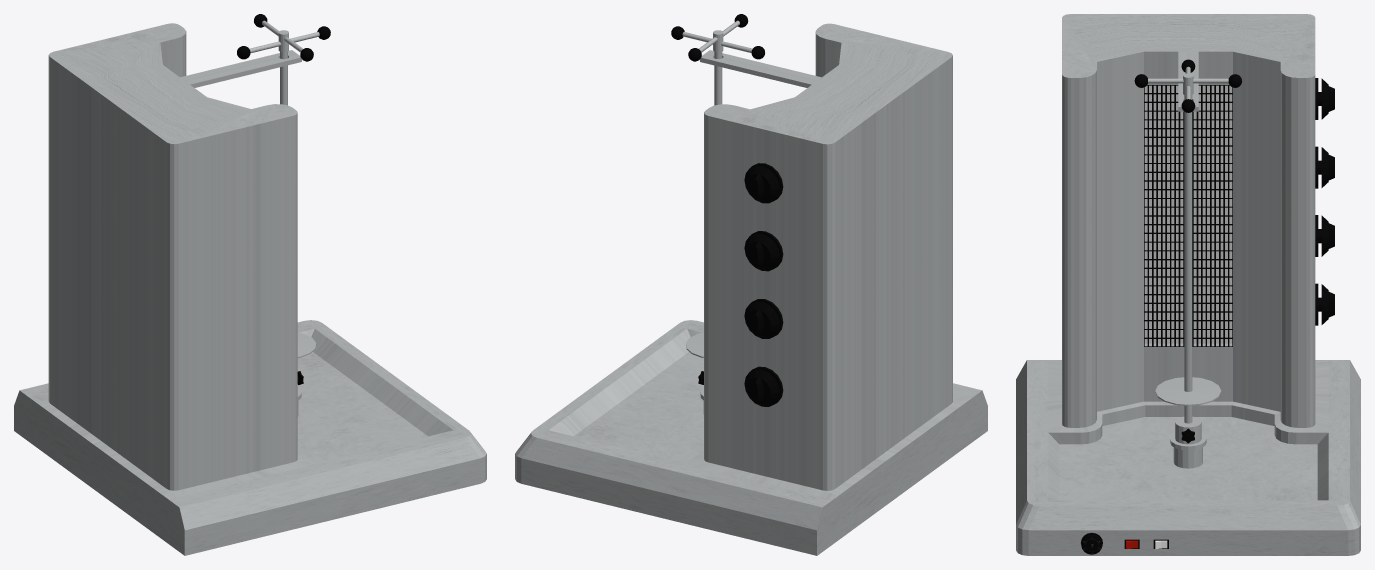
Rendered from donerOcagi.fbx.
3 views of the same model, side by side, from view 1: azimuth 30°, elevation 25°; view 2: azimuth 150°, elevation 25°; view 3: azimuth 270°, elevation 25° (orthographic).
Parts seen in each view (by area): view 1: Cube, Circle.002, Sphere.003; view 2: Cube, Kenardugme, Circle.002, Sphere.003; view 3: Cube, Cube.002, Circle.002, Kenardugme, Sphere.003, Sphere.
Part boxes in pixels (x1,y1,x2,y2): Cube: (14,23,486,555); Circle.002: (278,30,316,416); Sphere.003: (237,14,330,61); Cube: (515,23,987,555); Kenardugme: (744,163,783,406); Circle.002: (686,30,723,414); Sphere.003: (671,14,764,61); Cube: (1016,14,1360,555); Cube.002: (1144,85,1232,346); Circle.002: (1155,73,1221,468); Kenardugme: (1315,78,1334,325); Sphere.003: (1134,59,1241,112); Sphere: (1148,66,1228,99).
Bounding box in the file's own units: 842 × 1090 × 796.
